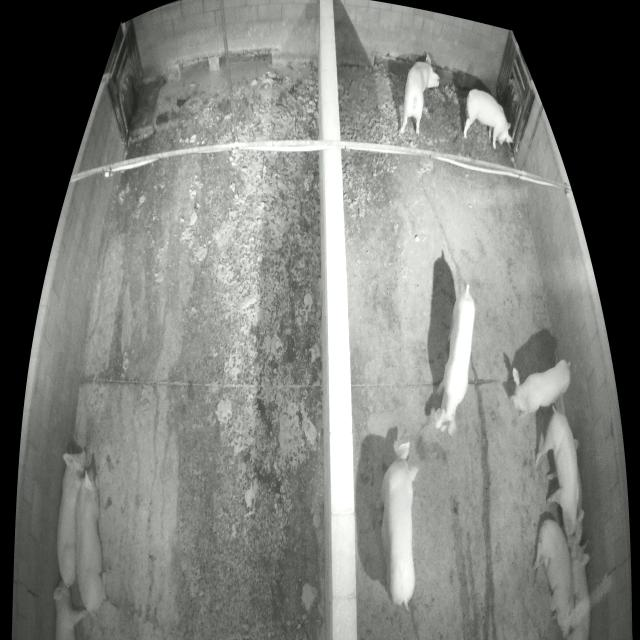pig: (376, 441, 418, 606), (535, 409, 583, 540), (433, 291, 475, 437), (532, 518, 583, 637), (75, 466, 107, 614), (56, 449, 88, 588), (508, 359, 571, 418), (398, 53, 440, 137), (463, 89, 515, 151), (568, 537, 590, 639), (54, 579, 87, 639)
